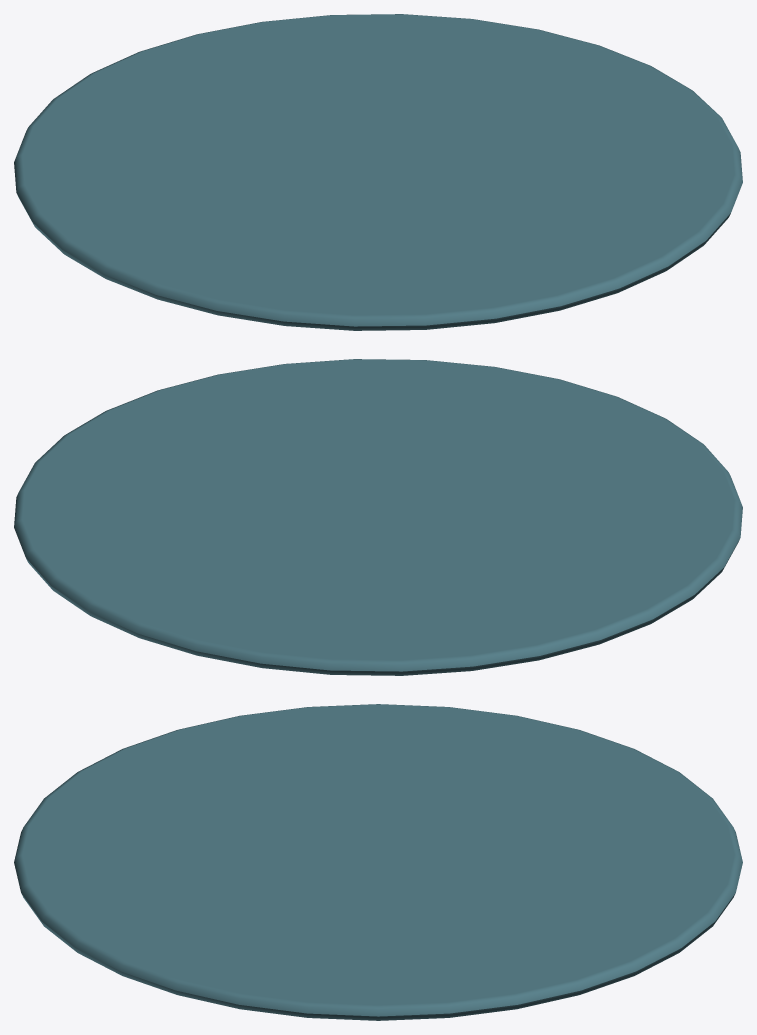
The model's file is SM_BarrelWater.fbx.
The picture shows the model from 3 angles, top to bottom: view 1: azimuth 30°, elevation 25°; view 2: azimuth 150°, elevation 25°; view 3: azimuth 270°, elevation 25°; orthographic projection.
Visible parts, largest first — view 1: Contained water; view 2: Contained water; view 3: Contained water.
Part boxes in pixels (left/top/right/bottom): Contained water: left=14, top=14, right=742, bottom=330; Contained water: left=14, top=359, right=742, bottom=675; Contained water: left=14, top=704, right=742, bottom=1020.
Size of the model in its own units: 86 by 2 by 86.
